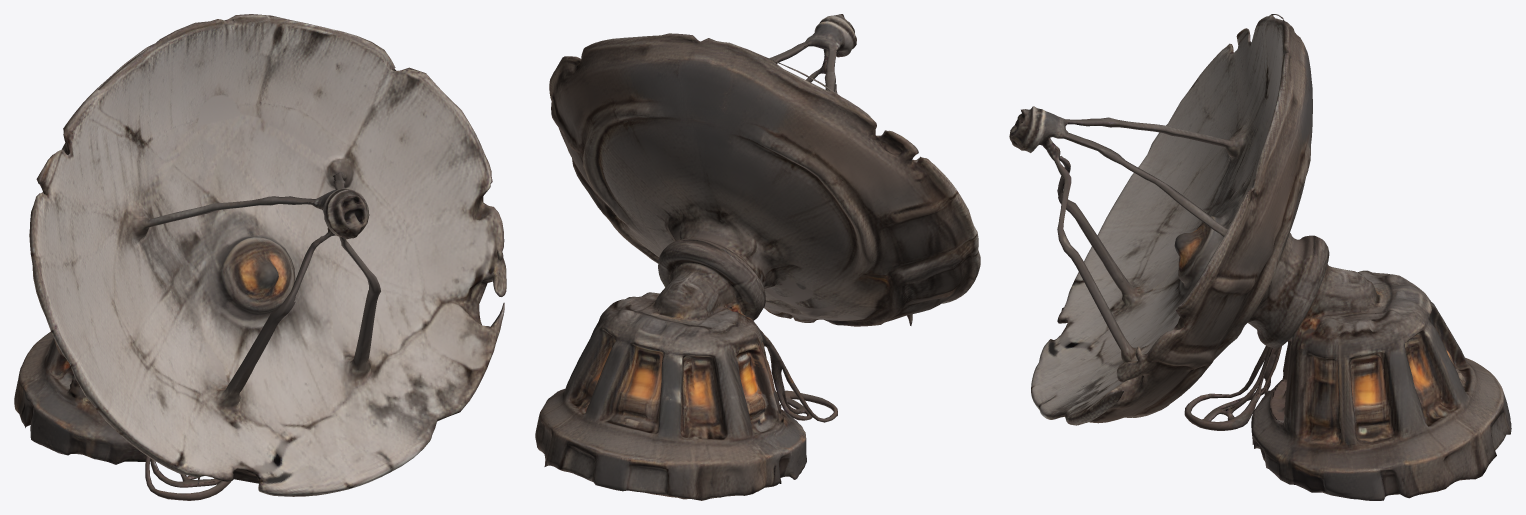
File: Dish_base_basic_pbr.glb
3 views of the same model, side by side, from view 1: azimuth 30°, elevation 25°; view 2: azimuth 150°, elevation 25°; view 3: azimuth 270°, elevation 25° (orthographic). The views are drawn at different scales.
Visible parts, largest first — view 1: model; view 2: model; view 3: model.
Part boxes in pixels (bbox=[...]): model: bbox=[14, 14, 506, 500]; model: bbox=[535, 14, 980, 500]; model: bbox=[1009, 14, 1511, 500].
Bounding box in the file's own units: 1.89 × 1.7 × 1.91.
1 material, 1 textured.
